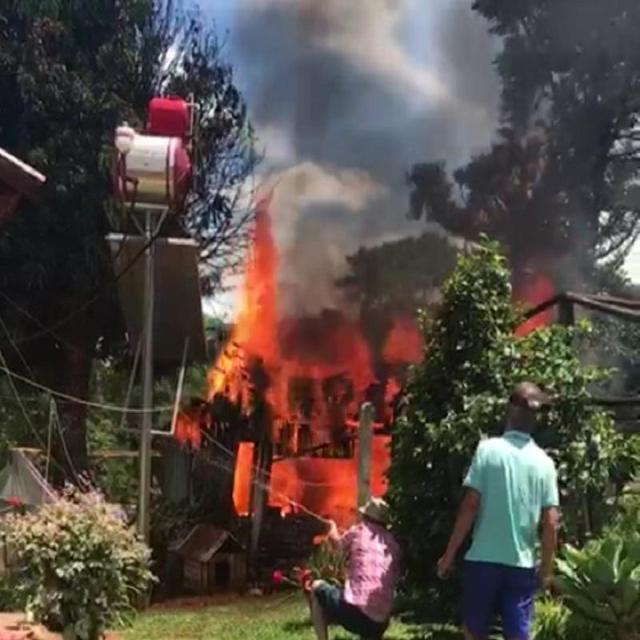Fire: (182, 200, 430, 510), (514, 279, 554, 330)
